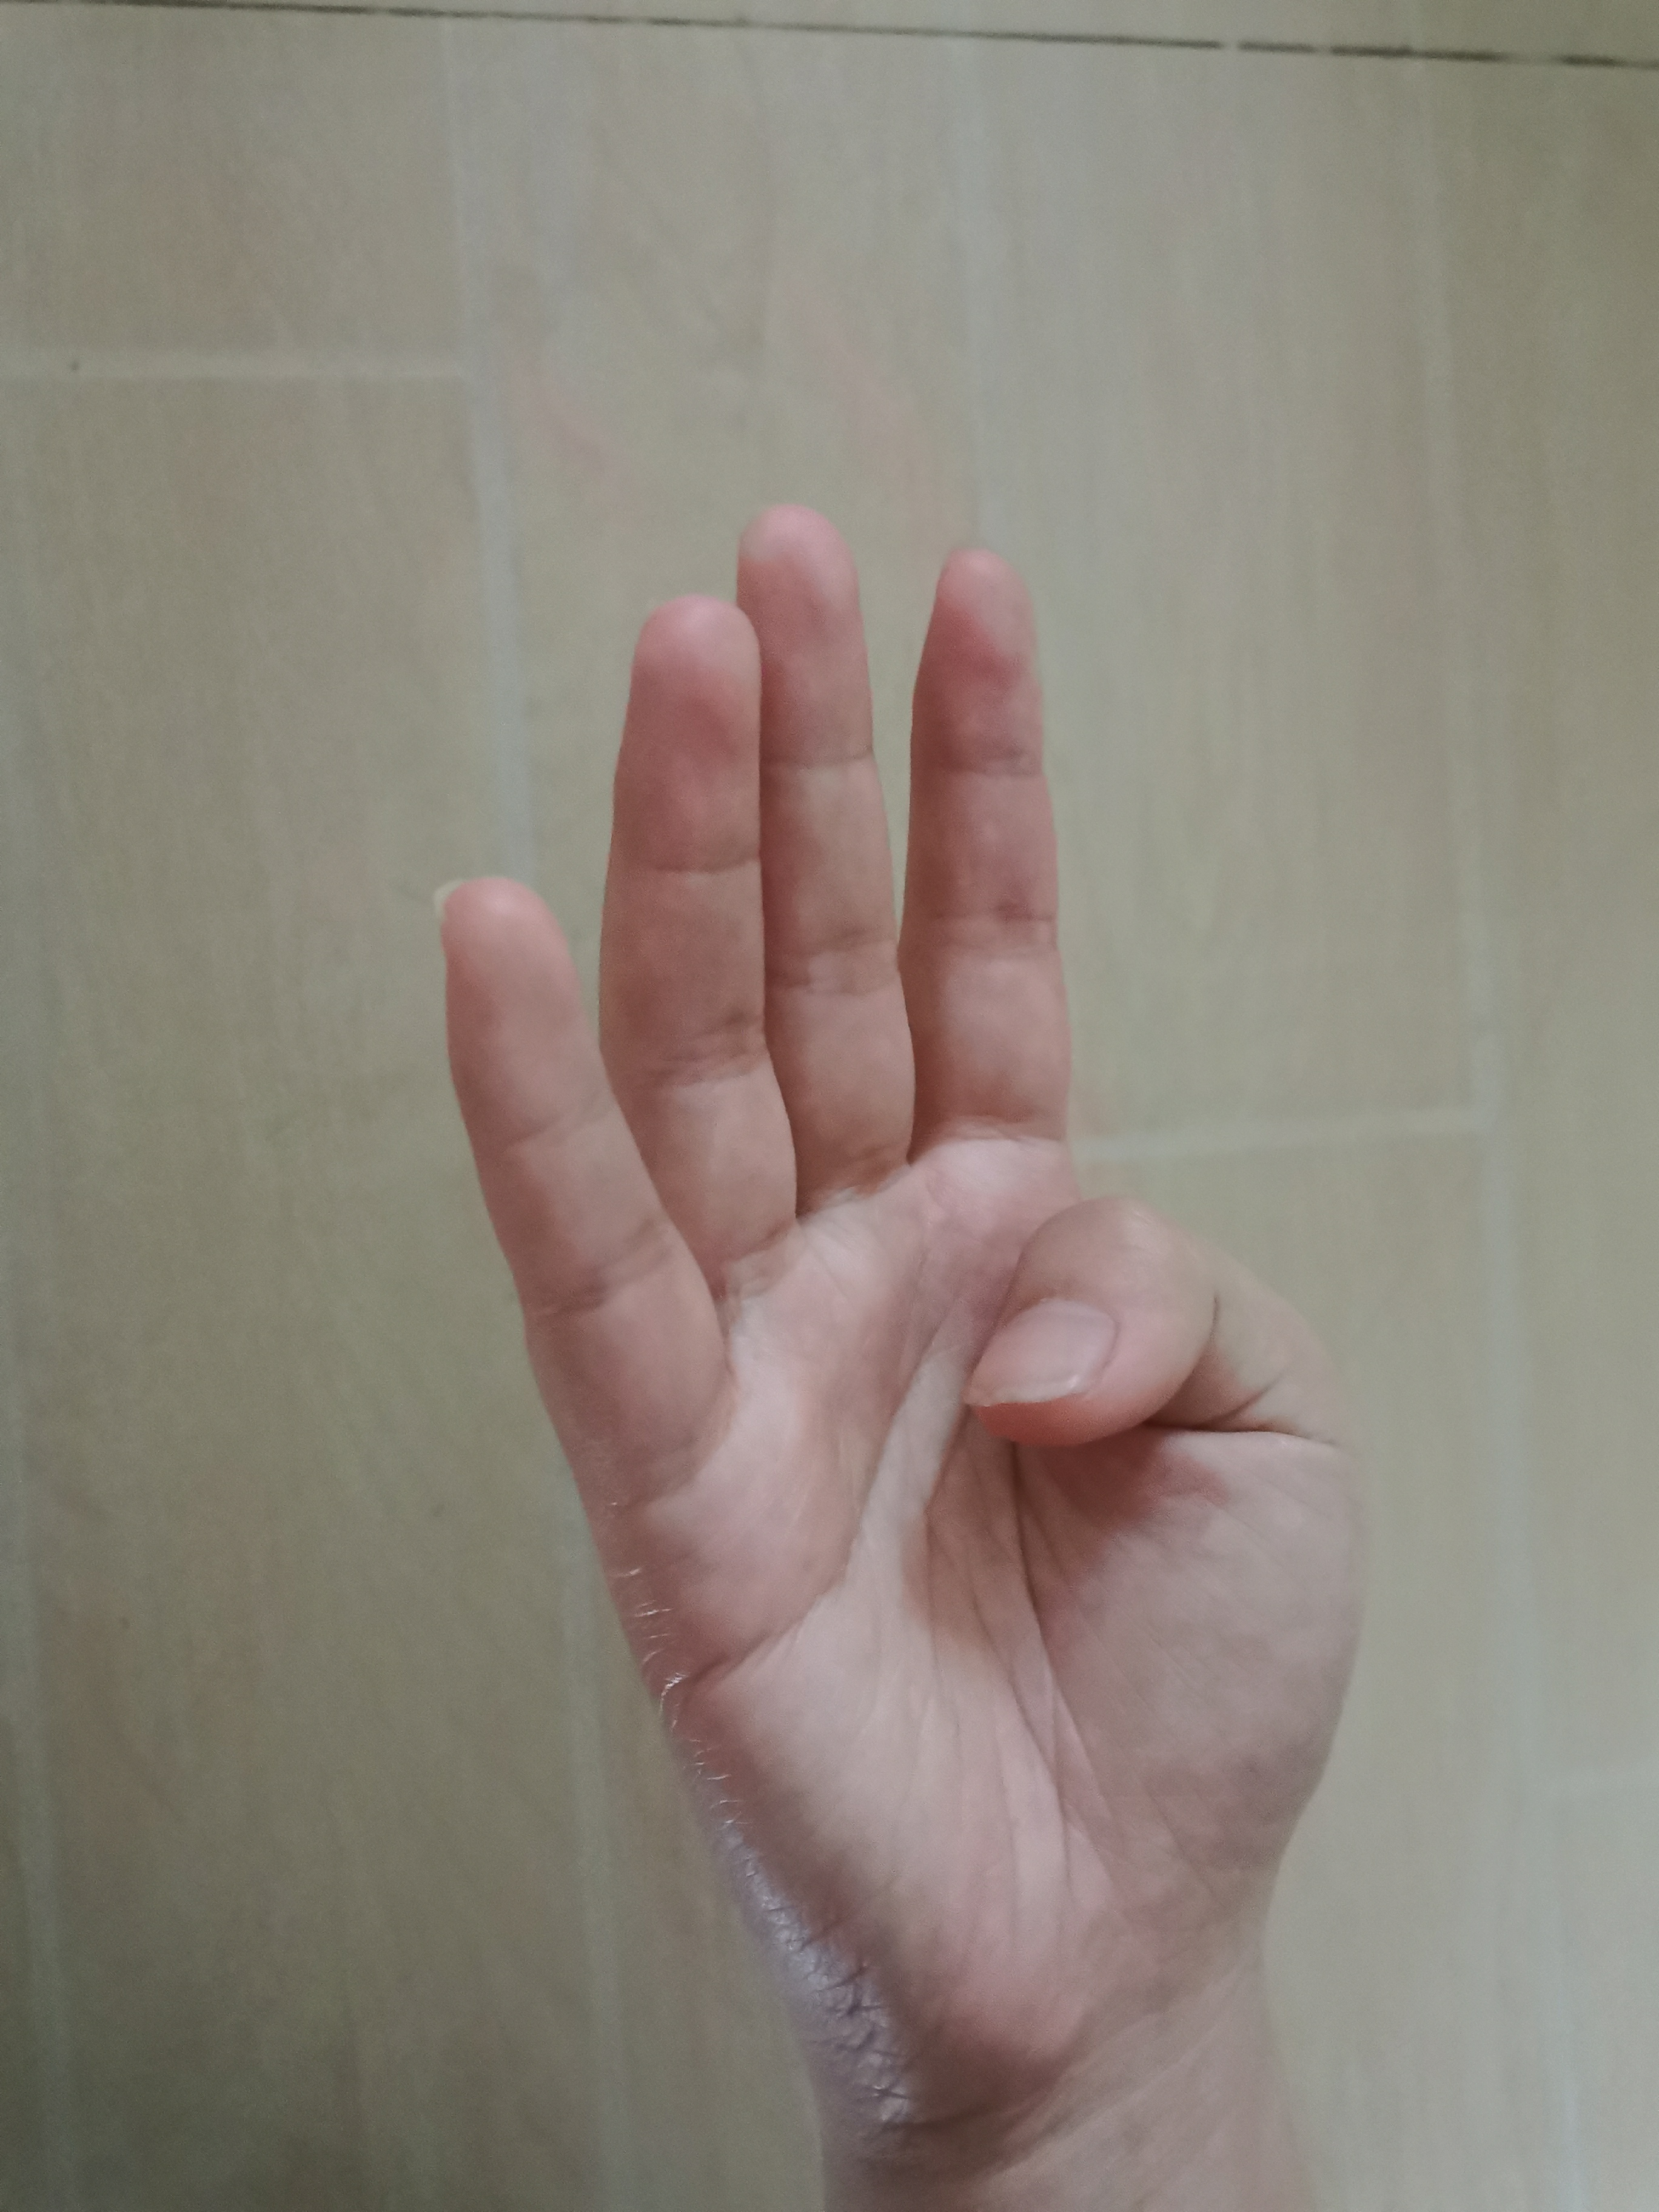right: (416, 514, 1371, 2052)
